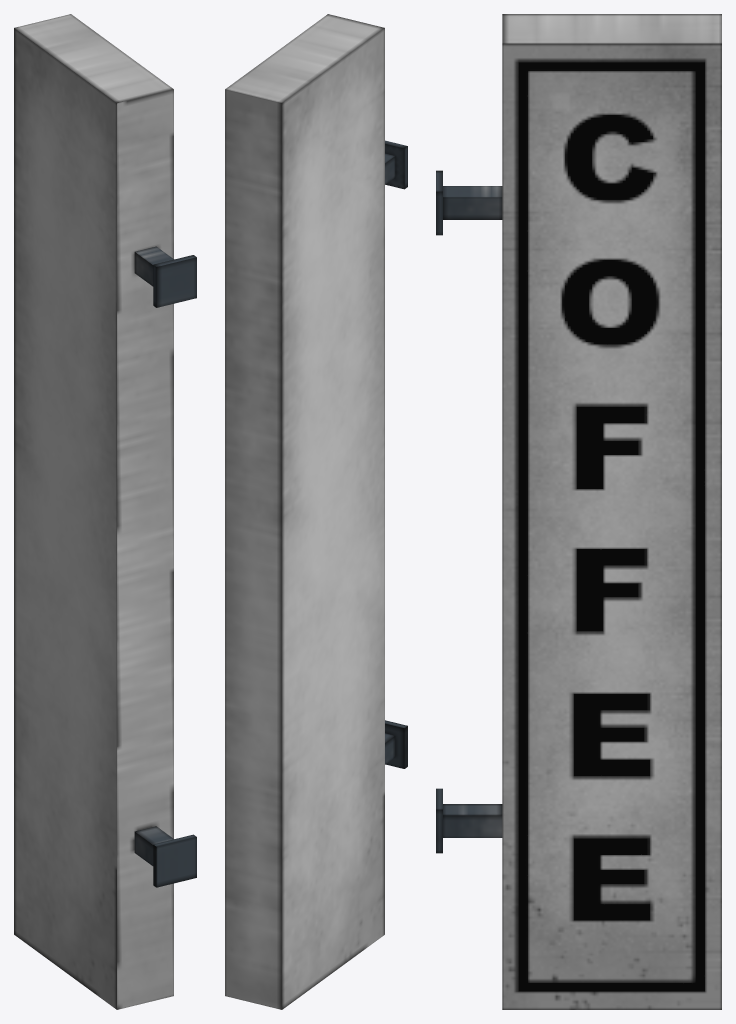
The model's file is sign_03.FBX.
3 views of the same model, side by side, from view 1: azimuth 30°, elevation 25°; view 2: azimuth 150°, elevation 25°; view 3: azimuth 270°, elevation 25° (orthographic). The views are drawn at different scales.
Visible parts, largest first — view 1: Object006, Box037; view 2: Object006, Box037; view 3: Object006, Box037.
Part boxes in pixels (x1=…): Object006: x1=14, y1=14, x2=196, y2=620; Box037: x1=14, y1=458, x2=196, y2=1009; Object006: x1=225, y1=14, x2=407, y2=544; Box037: x1=225, y1=524, x2=407, y2=1009; Object006: x1=436, y1=14, x2=721, y2=584; Box037: x1=436, y1=507, x2=721, y2=1009.
Size of the model in its own units: 10.15 by 154 by 41.35.
